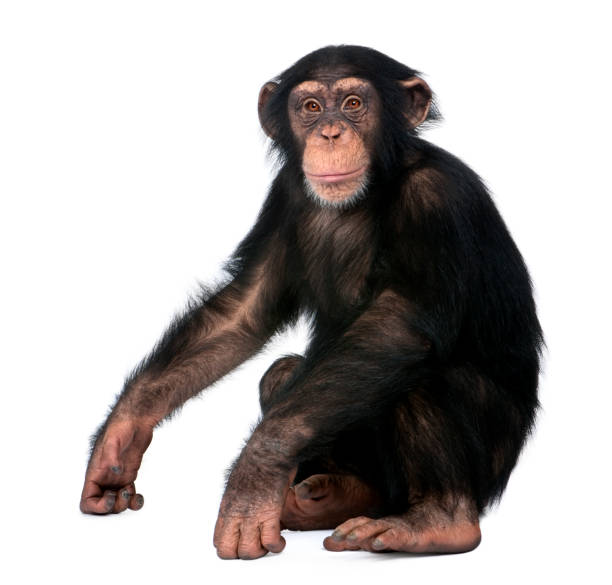chimpanzee: (236, 37, 461, 224)
